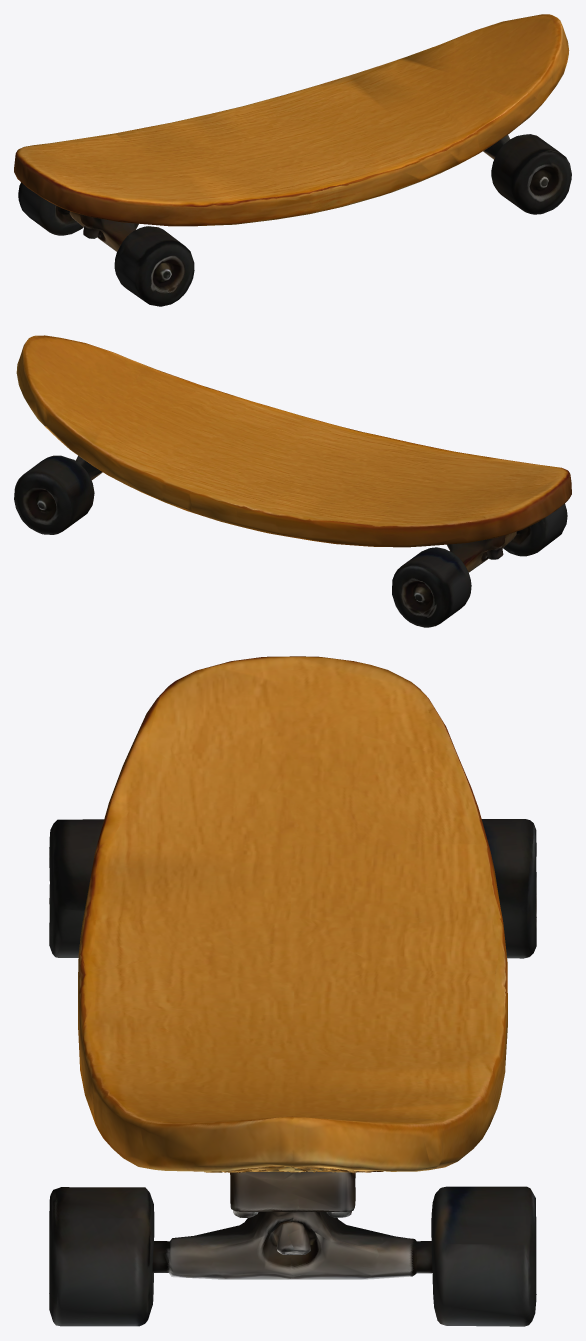
Rendered from CCG_Deck_GoldenPawStrike_web.glb.
3 renders of one model, top to bottom at view 1: azimuth 30°, elevation 25°; view 2: azimuth 150°, elevation 25°; view 3: azimuth 270°, elevation 25°, orthographic. The views are drawn at different scales.
Parts seen in each view (by area): view 1: SM_Deck_GoldenPawStrike; view 2: SM_Deck_GoldenPawStrike; view 3: SM_Deck_GoldenPawStrike.
Boxes of the visible parts, bbox=[...] form: SM_Deck_GoldenPawStrike: bbox=[14, 14, 571, 306]; SM_Deck_GoldenPawStrike: bbox=[14, 335, 571, 627]; SM_Deck_GoldenPawStrike: bbox=[49, 656, 536, 1326].
Size of the model in its own units: 0.8198 by 0.2005 by 0.3246.
Materials: 1 (1 with a texture image).
